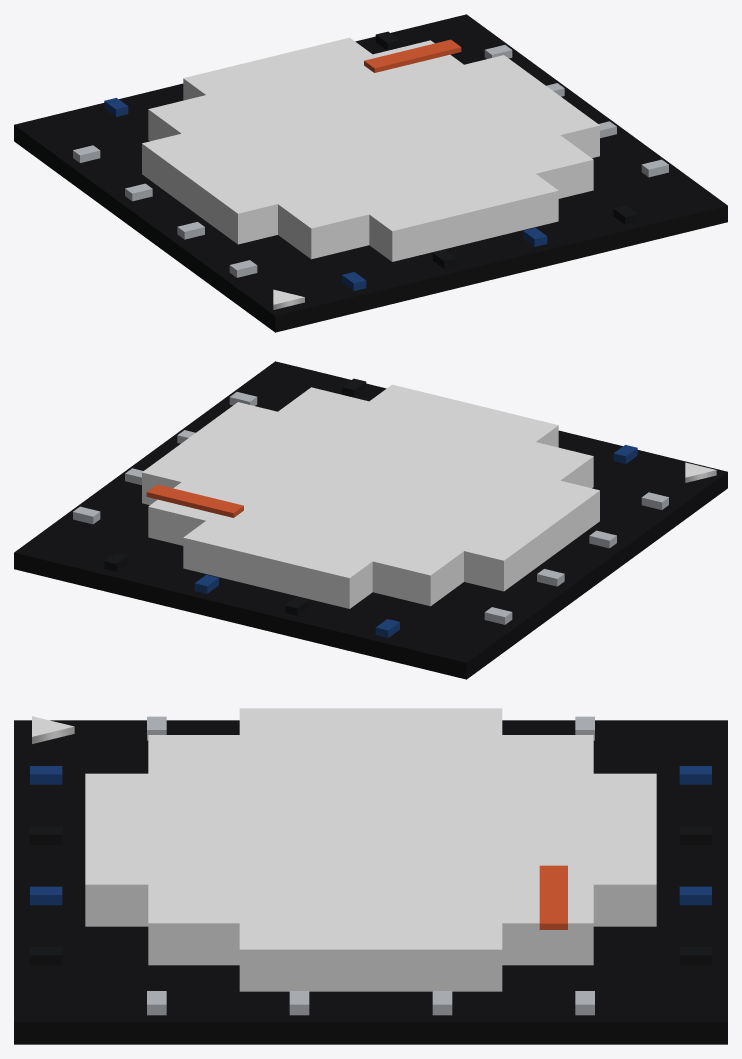
The model's file is hw_cpu_ryzen5_5600.glb.
3 views of the same model, one above another, from view 1: azimuth 30°, elevation 25°; view 2: azimuth 150°, elevation 25°; view 3: azimuth 270°, elevation 25° (orthographic). The views are drawn at different scales.
Parts seen in each view (by area): view 1: Body; view 2: Body; view 3: Body.
Boxes of the visible parts, left/top/right/bottom form: Body: left=14, top=14, right=727, bottom=332; Body: left=14, top=361, right=727, bottom=679; Body: left=14, top=708, right=727, bottom=1044.
Size of the model in its own units: 0.04 by 0.00467 by 0.04.
